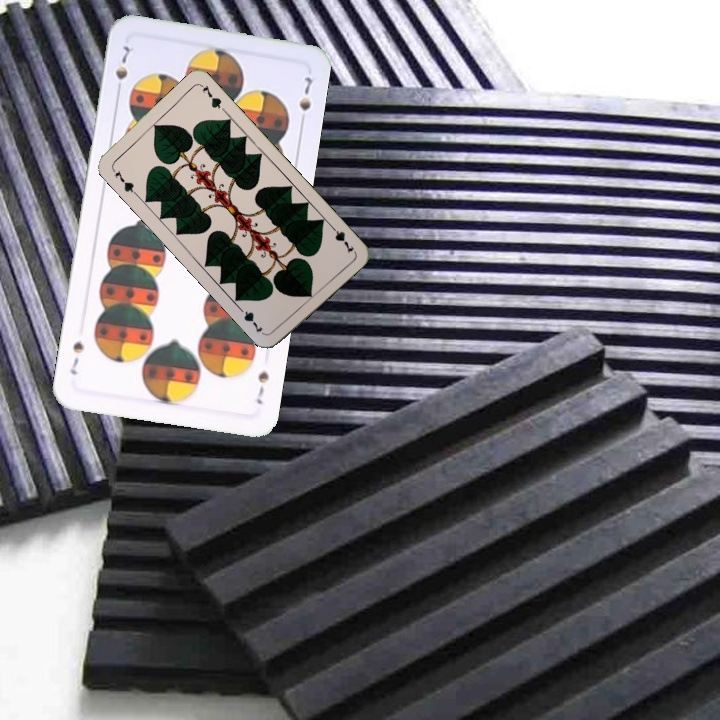G7: (325, 220, 357, 256), (110, 166, 139, 197)
S7: (111, 41, 133, 97), (252, 367, 271, 407)
